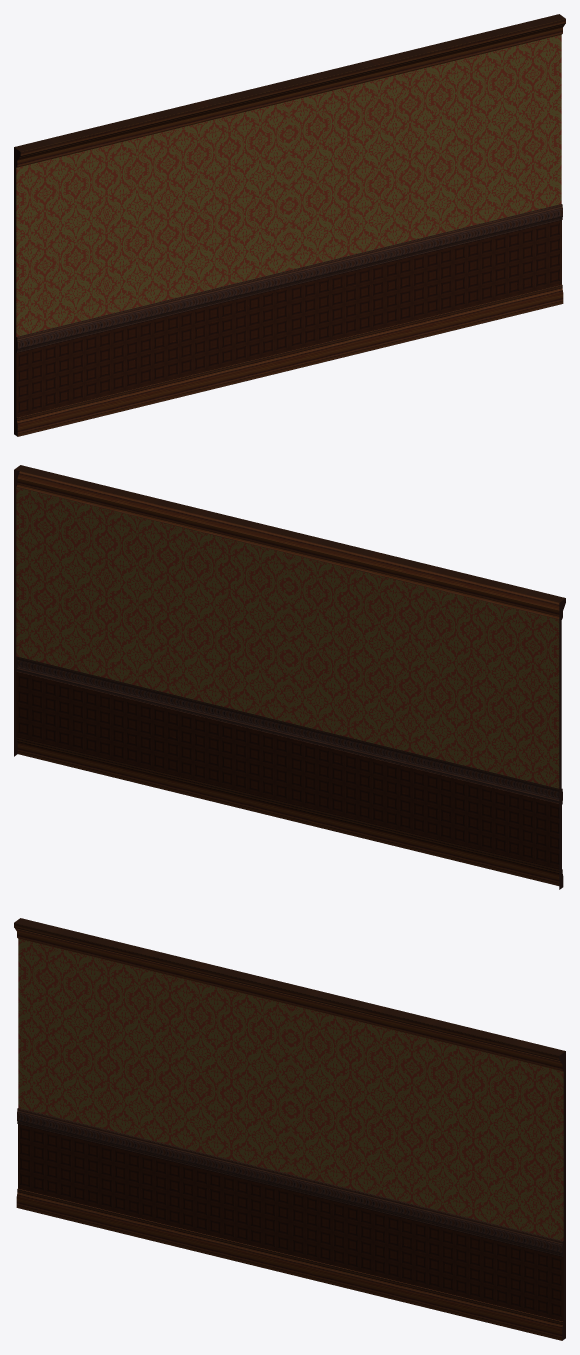
The model's file is Wall1Long.fbx.
3 renders of one model, top to bottom at view 1: azimuth 30°, elevation 25°; view 2: azimuth 150°, elevation 25°; view 3: azimuth 330°, elevation 25°, orthographic.
Visible parts, largest first — view 1: WallSection1LONG; view 2: WallSection1LONG; view 3: WallSection1LONG.
Part boxes in pixels (left/top/right/bottom): WallSection1LONG: left=14, top=14, right=565, bottom=436; WallSection1LONG: left=14, top=465, right=565, bottom=889; WallSection1LONG: left=14, top=918, right=565, bottom=1340.
Size of the model in its own units: 738 by 371 by 15.29.
